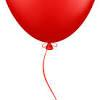red: (6, 0, 96, 50)
